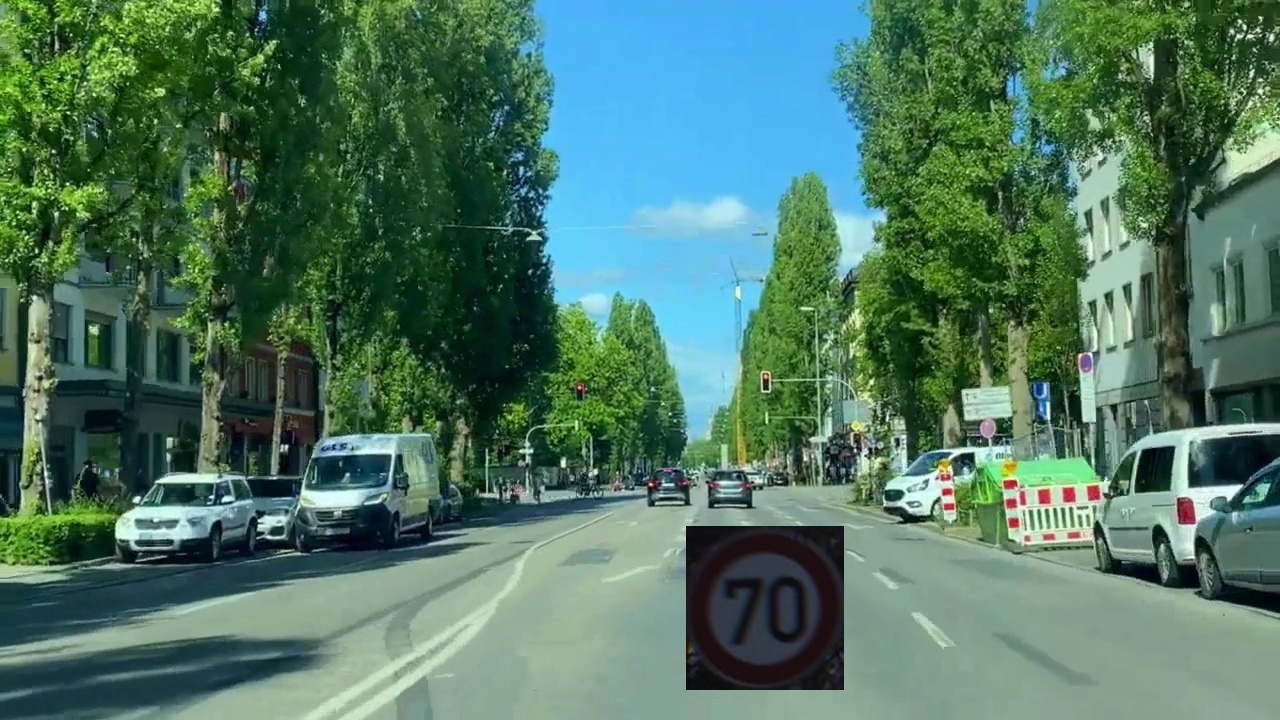Speed 70: (686, 526, 844, 690)
